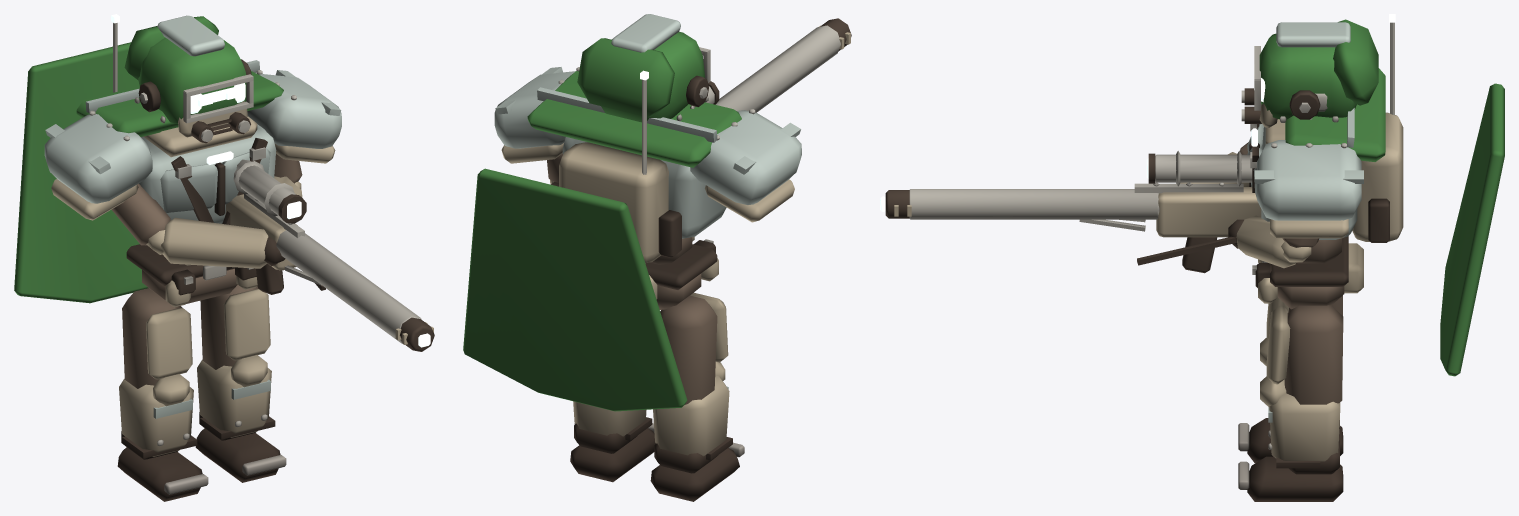
Rendered from ranger.glb.
The picture shows the model from 3 angles, left to right: view 1: azimuth 30°, elevation 25°; view 2: azimuth 150°, elevation 25°; view 3: azimuth 270°, elevation 25°; orthographic projection. The views are drawn at different scales.
Parts seen in each view (by area): view 1: Cape, Chest, Steel, Armor, Shin, Shin.001, Gear, Helmet, Suit, Leg_suit, Boot, Boot.001 (+9 smaller); view 2: Cape, Chest, Pack, Steel, Shin, Leg_suit, Gear, Boot, Boot.001, Armor, Helmet, Helmet_crest (+2 smaller); view 3: Cape, Steel, Chest, Gear, Shin.001, Armor, Leg_suit.001, Helmet, Rifle, Boot.001, Pack, Suit (+2 smaller).
Boxes of the visible parts, <box> form: Cape: <box>14,16,283,303</box>; Chest: <box>44,60,341,223</box>; Steel: <box>89,23,421,343</box>; Armor: <box>51,101,335,307</box>; Shin: <box>119,307,193,456</box>; Shin.001: <box>197,288,271,437</box>; Gear: <box>126,59,434,351</box>; Helmet: <box>138,37,246,123</box>; Suit: <box>111,154,302,303</box>; Leg_suit: <box>122,288,181,388</box>; Boot: <box>117,431,202,501</box>; Boot.001: <box>195,412,280,482</box>; Cape: <box>463,38,741,411</box>; Chest: <box>494,67,801,238</box>; Pack: <box>559,142,668,263</box>; Steel: <box>558,25,840,243</box>; Shin: <box>653,292,729,456</box>; Leg_suit: <box>660,295,717,404</box>; Gear: <box>551,18,851,289</box>; Boot: <box>650,443,739,501</box>; Boot.001: <box>570,423,655,482</box>; Armor: <box>501,143,794,299</box>; Helmet: <box>601,31,704,122</box>; Helmet_crest: <box>611,14,680,52</box>; Cape: <box>1285,19,1504,376</box>; Steel: <box>909,22,1394,274</box>; Chest: <box>1247,108,1363,239</box>; Gear: <box>885,88,1389,287</box>; Shin.001: <box>1260,306,1340,461</box>; Armor: <box>1180,103,1363,303</box>; Leg_suit.001: <box>1284,305,1343,404</box>; Helmet: <box>1259,33,1356,119</box>; Rifle: <box>894,187,1261,237</box>; Boot.001: <box>1247,440,1343,501</box>; Pack: <box>1352,112,1403,241</box>; Suit: <box>1240,142,1344,309</box>.
Bounding box in the file's own units: 1.42 × 2.25 × 2.86.
